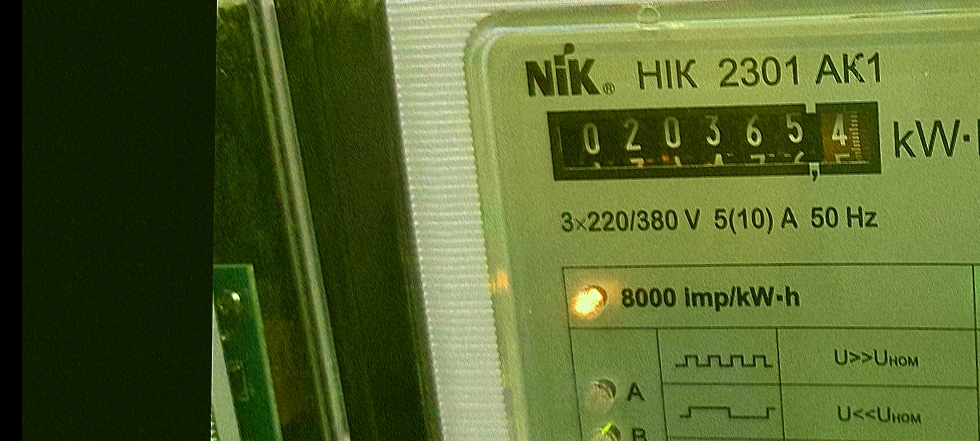0: (662, 113, 682, 149), (580, 120, 601, 154)
2: (620, 115, 642, 151)
3: (703, 111, 722, 146)
4: (829, 111, 848, 145)
5: (784, 110, 804, 143)
6: (743, 111, 763, 147)
screen: (530, 86, 900, 194)
